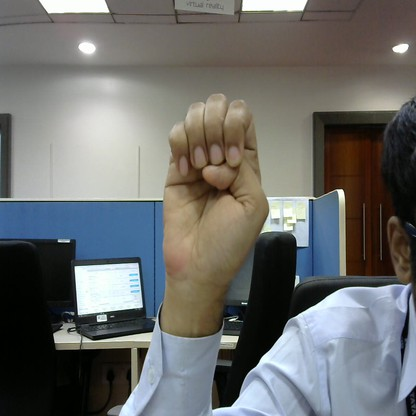e: (161, 82, 271, 279)
